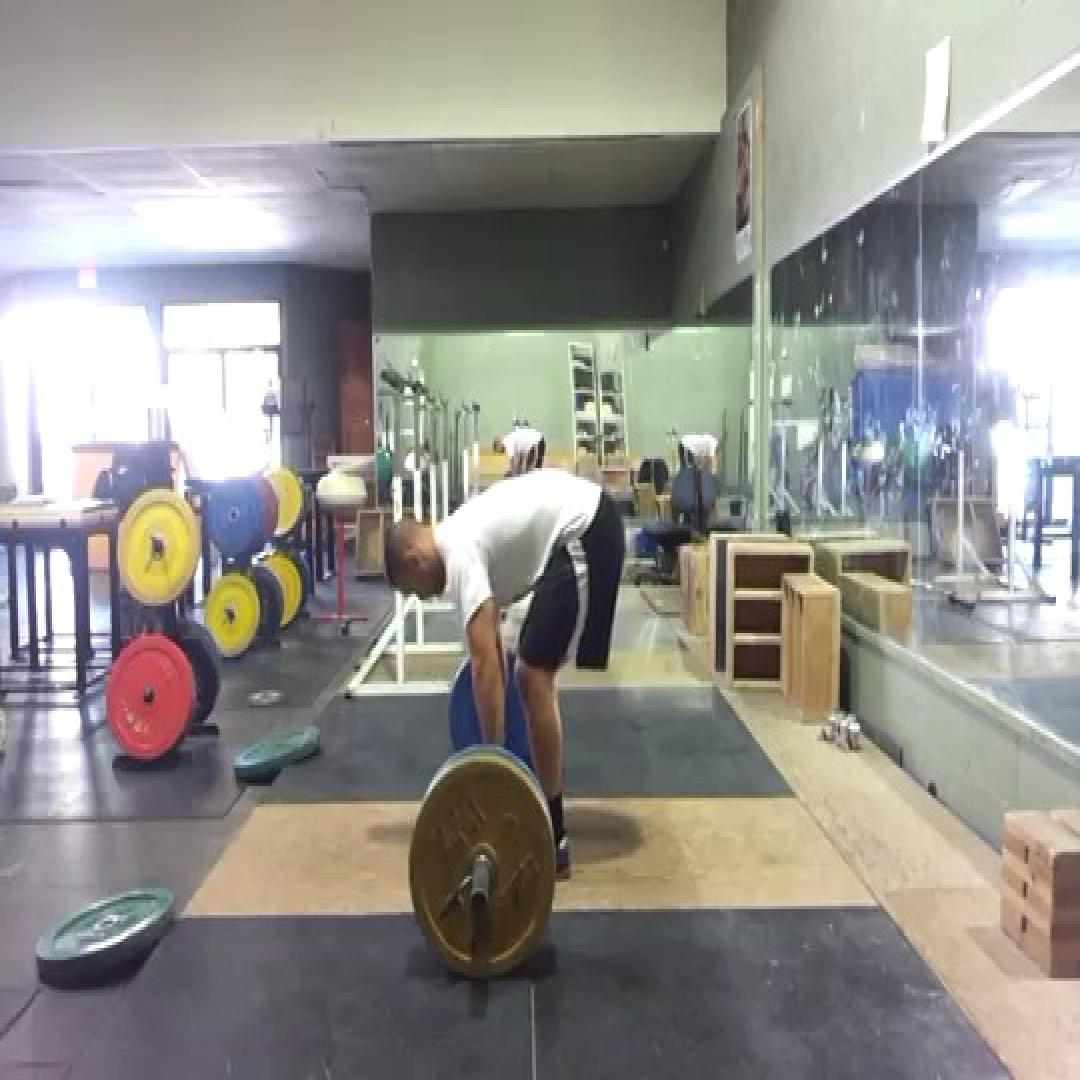Bar: (468, 885, 490, 918)
Barbell: (408, 756, 556, 978)
